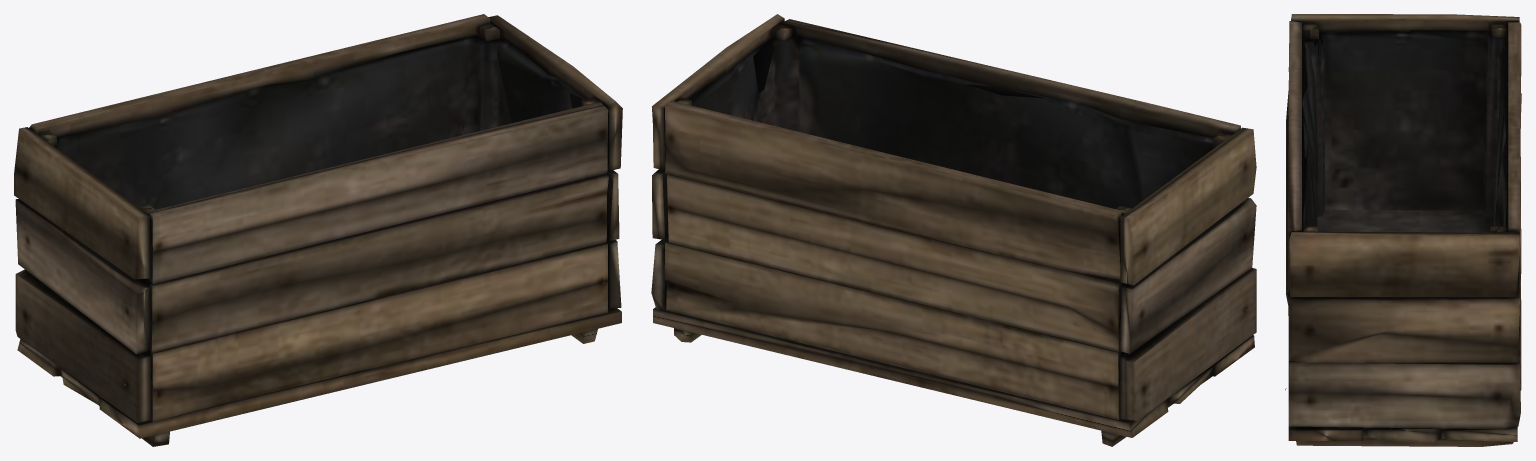
The model's file is planter_box_01.glb.
3 views of the same model, side by side, from view 1: azimuth 30°, elevation 25°; view 2: azimuth 150°, elevation 25°; view 3: azimuth 270°, elevation 25° (orthographic). The views are drawn at different scales.
Parts seen in each view (by area): view 1: planter_box_01; view 2: planter_box_01; view 3: planter_box_01.
Boxes of the visible parts, x1,y1,x2,y2 form: planter_box_01: (14, 14, 622, 446); planter_box_01: (651, 14, 1256, 446); planter_box_01: (1285, 14, 1521, 446).
Bounding box in the file's own units: 0.9084 × 0.4249 × 0.4098.
Materials: 1 (1 with a texture image).
